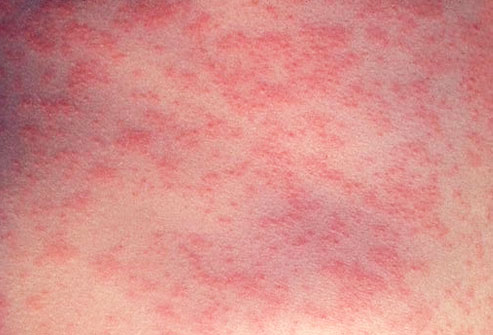Measles: (54, 32, 430, 288)
